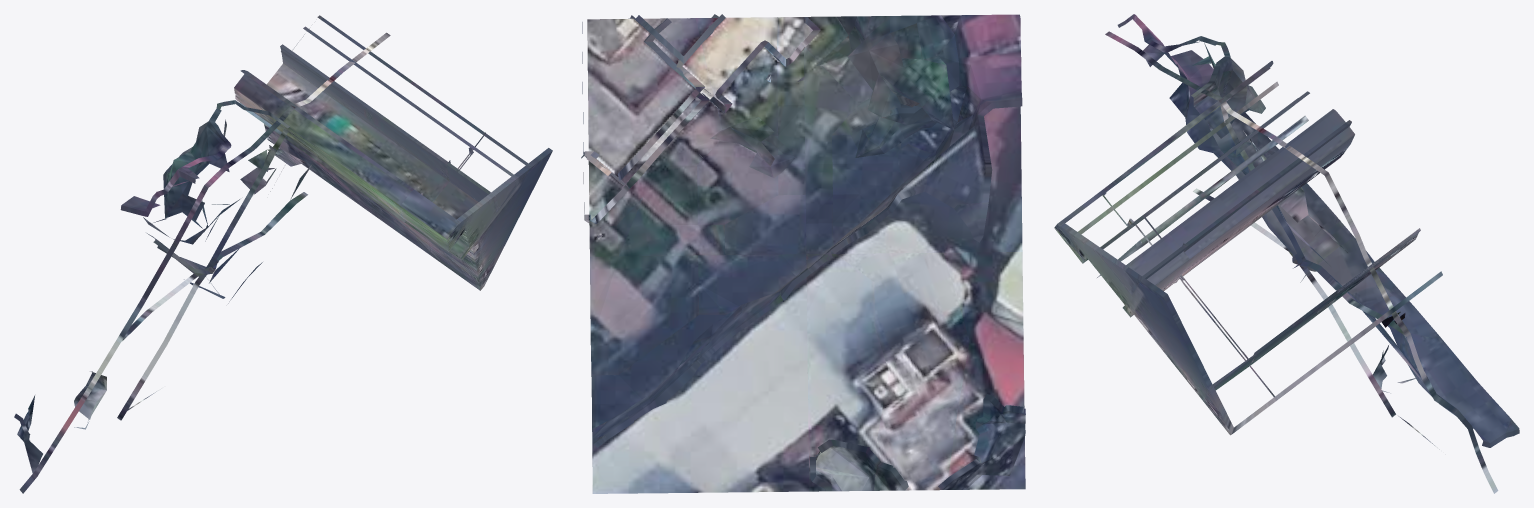
3 renders of one model, left to right at view 1: azimuth 30°, elevation 25°; view 2: azimuth 150°, elevation 25°; view 3: azimuth 270°, elevation 25°, orthographic. The views are drawn at different scales.
Bounding box in the file's own units: 47.7 × 36.7 × 39.7.
Materials: 1 (1 with a texture image).
